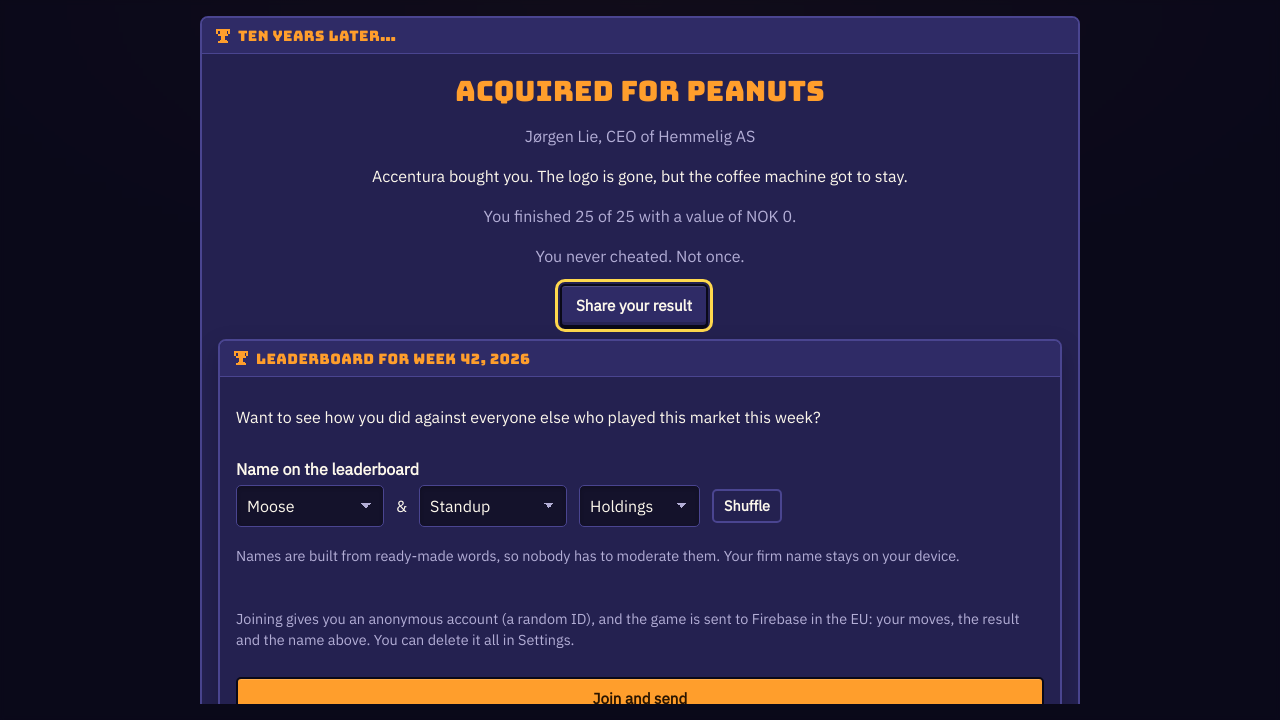
Test: leaderboard UI › lets you join and send in a finished weekly game from the end screen
Click the button "Join and send".
click(640, 699)  # box [236,677,1044,719]
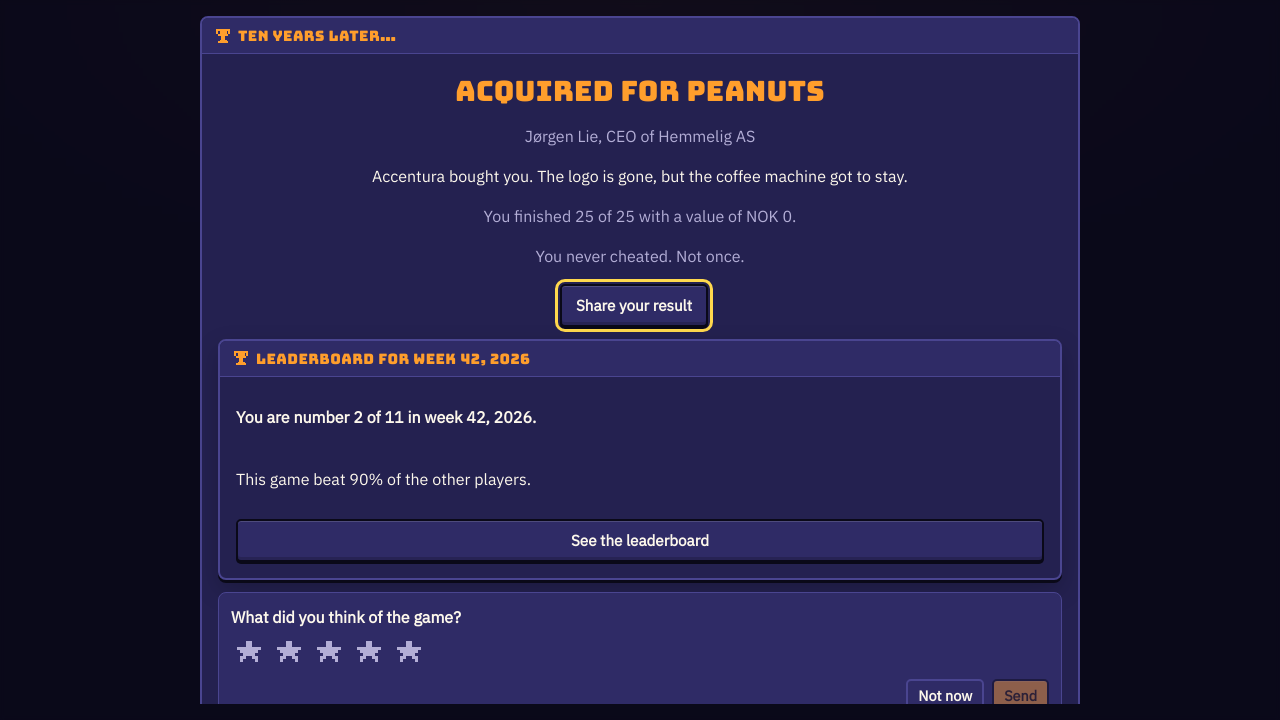
Expected: the text "You are number 2 of 11 in week 42, 2026." is shown, [236,407,536,427]
Expected: the text "This game beat 90% of the other players." is shown, [236,469,531,489]
